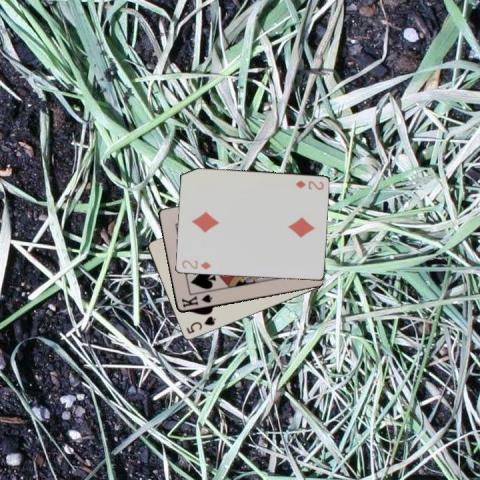2d: (179, 257, 212, 271), (292, 178, 324, 191)
5s: (184, 314, 218, 336)
Ks: (179, 292, 213, 309)
